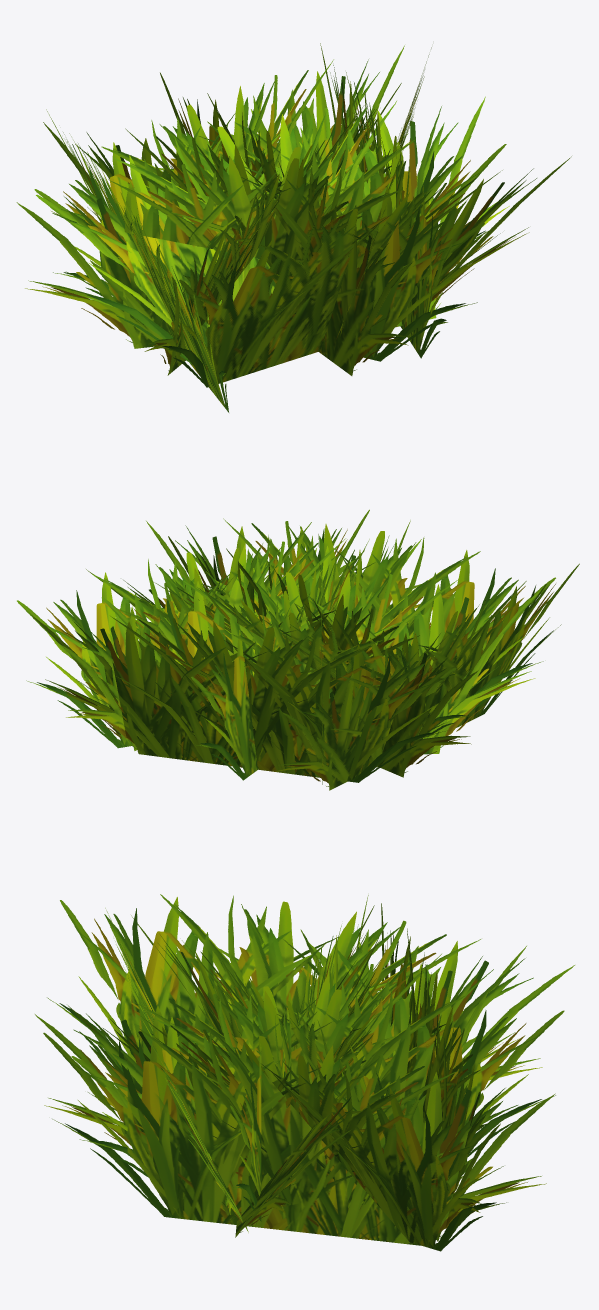
The model's file is ShortGrass.fbx.
3 renders of one model, top to bottom at view 1: azimuth 30°, elevation 25°; view 2: azimuth 150°, elevation 25°; view 3: azimuth 270°, elevation 25°, orthographic. The views are drawn at different scales.
Parts seen in each view (by area): view 1: ShortGrassModel; view 2: ShortGrassModel; view 3: ShortGrassModel.
Boxes of the visible parts, x1,y1,x2,y2 form: ShortGrassModel: (16,43,571,412); ShortGrassModel: (17,509,579,790); ShortGrassModel: (35,894,574,1251).
Bounding box in the file's own units: 218 × 84.04 × 213.
